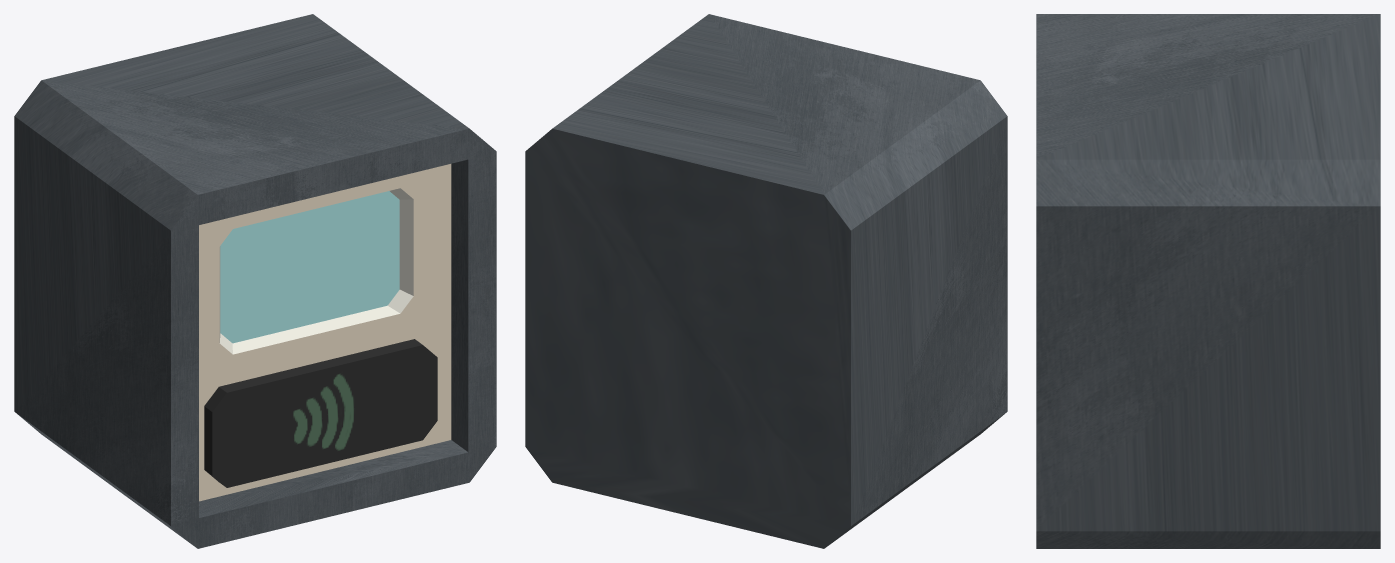
Rendered from Scanner_Button.fbx.
3 renders of one model, left to right at view 1: azimuth 30°, elevation 25°; view 2: azimuth 150°, elevation 25°; view 3: azimuth 270°, elevation 25°, orthographic. The views are drawn at different scales.
Parts seen in each view (by area): view 1: Scanner, Scanner_Screen; view 2: Scanner; view 3: Scanner.
Part boxes in pixels (bbox=[...]): Scanner: bbox=[14, 14, 496, 548]; Scanner_Screen: bbox=[220, 191, 399, 343]; Scanner: bbox=[525, 14, 1007, 548]; Scanner: bbox=[1036, 14, 1380, 548].
Size of the model in its own units: 88.22 by 91.68 by 73.52.
